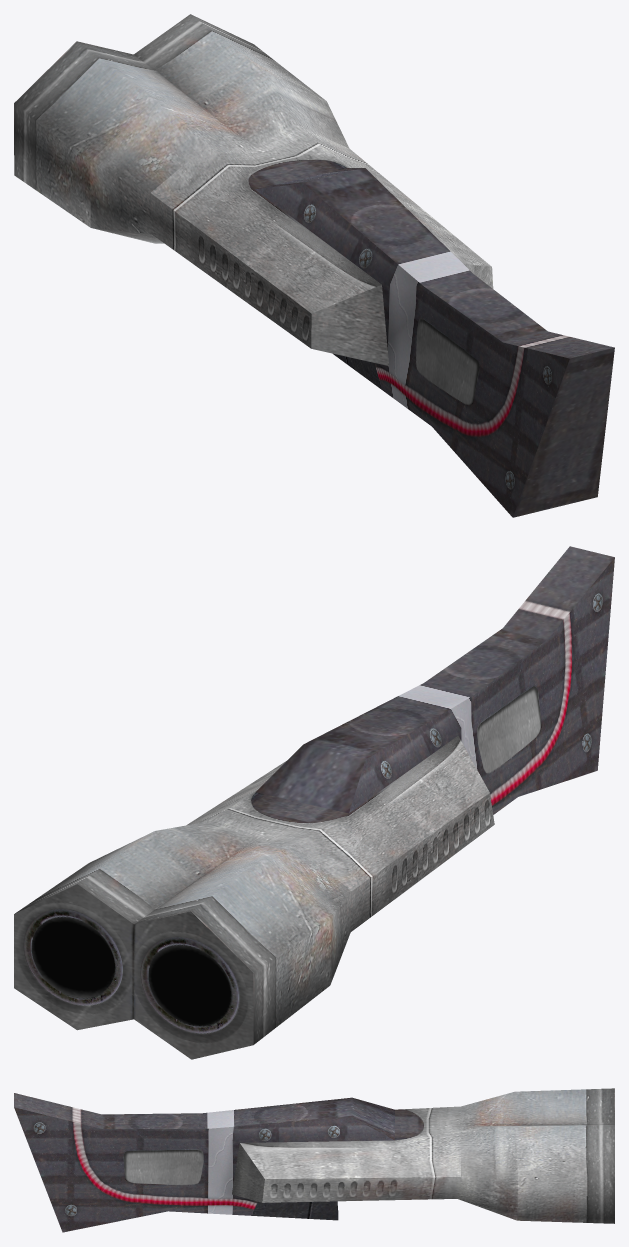
Rendered from afps_4.glb.
3 views of the same model, one above another, from view 1: azimuth 30°, elevation 25°; view 2: azimuth 150°, elevation 25°; view 3: azimuth 270°, elevation 25° (orthographic). The views are drawn at different scales.
Parts seen in each view (by area): view 1: weapon4; view 2: weapon4; view 3: weapon4.
Part boxes in pixels (x1,y1,x2,y2): weapon4: [14, 14, 614, 517]; weapon4: [14, 546, 614, 1059]; weapon4: [14, 1088, 614, 1232].
Size of the model in its own units: 0.318 by 0.2293 by 1.05.
Materials: 1 (1 with a texture image).
